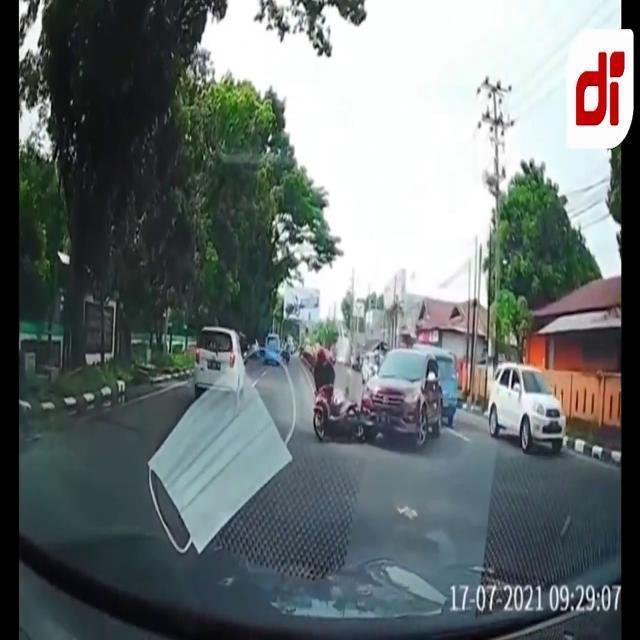accident: (312, 348, 442, 452)
non-accident: (264, 332, 290, 368)
